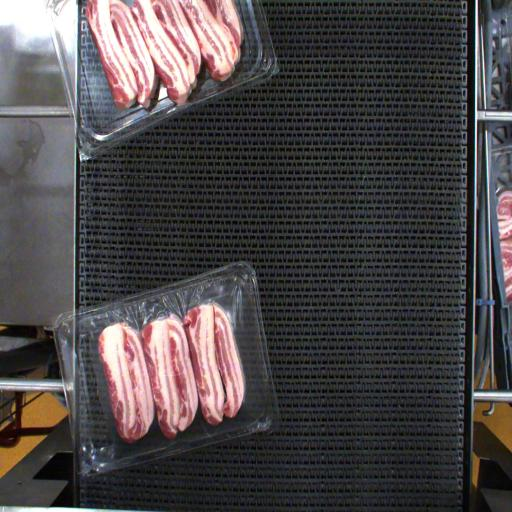unsealed: (60, 268, 267, 362)
